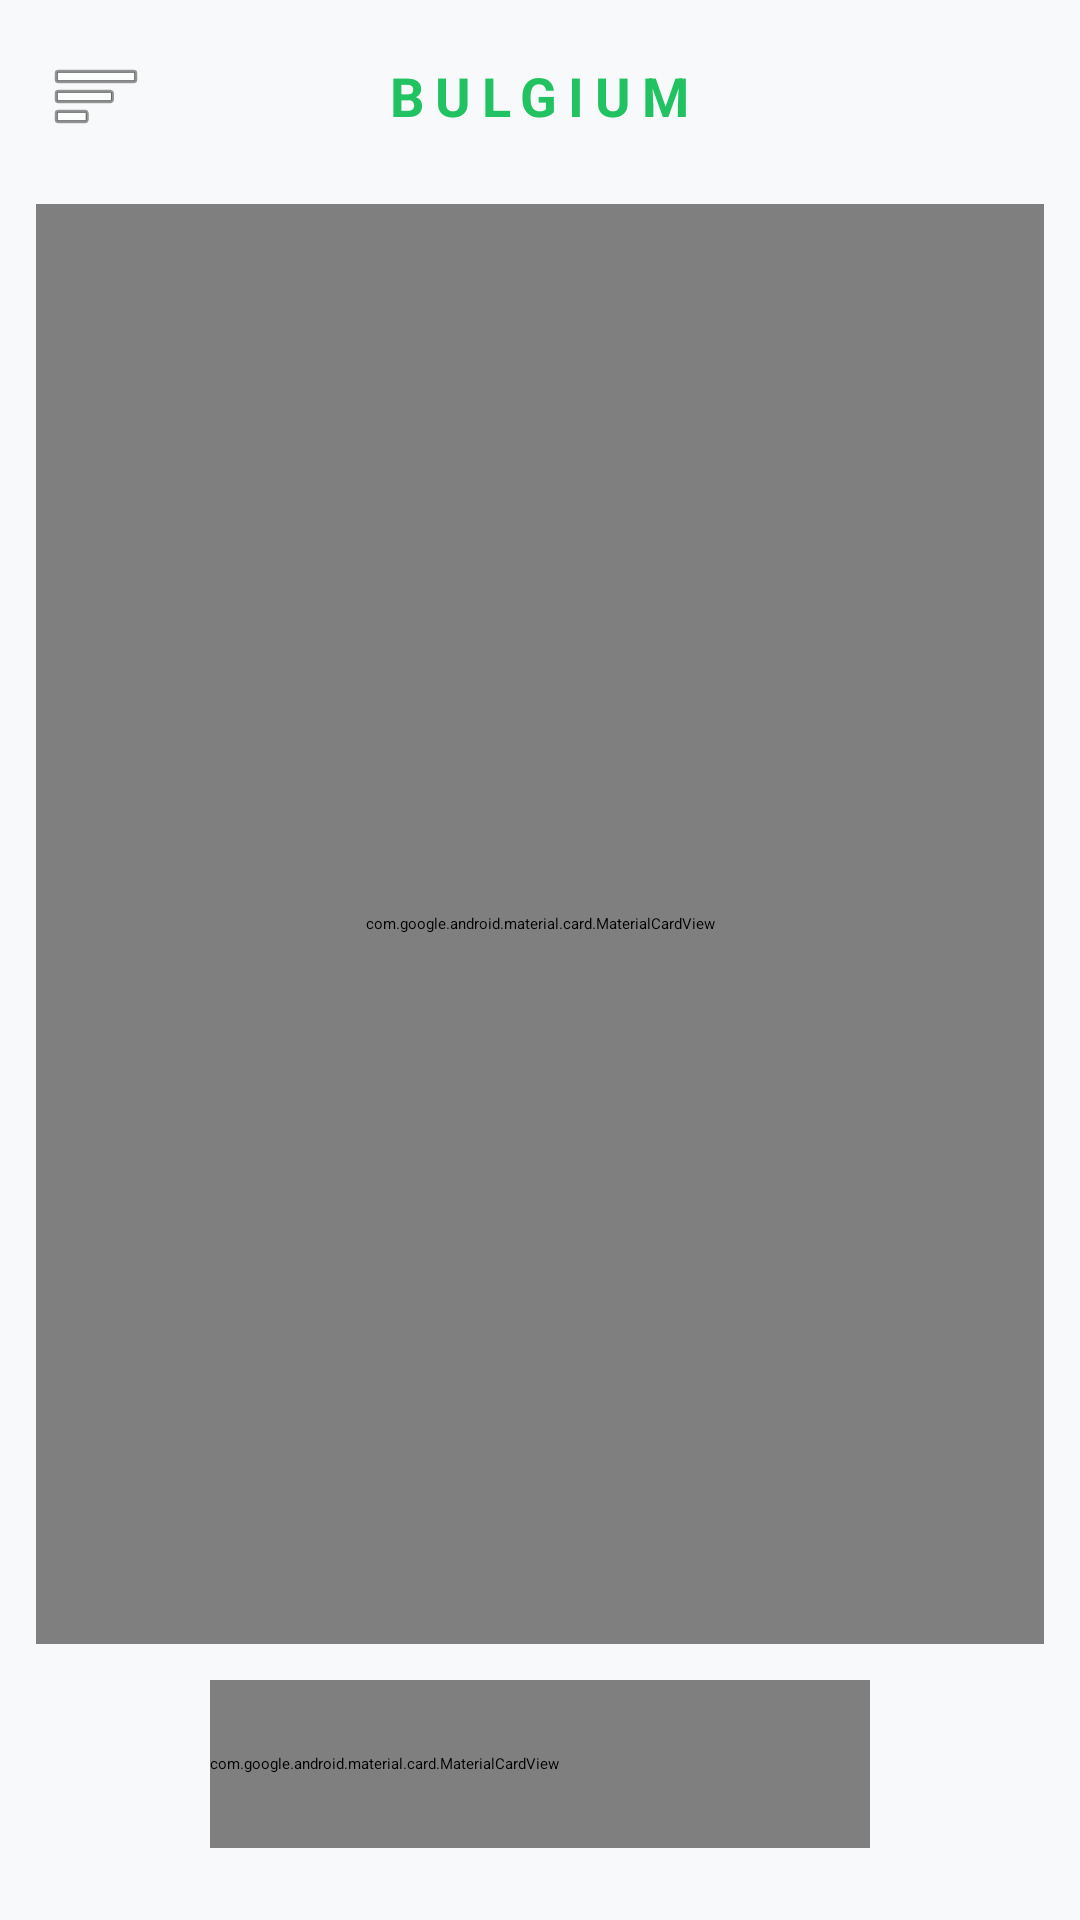

Icons on this 1080w x 1920h Android screen, each with its box as box=[x1, y1, x2, y2]:
sort by size: box=[55, 70, 137, 123]
